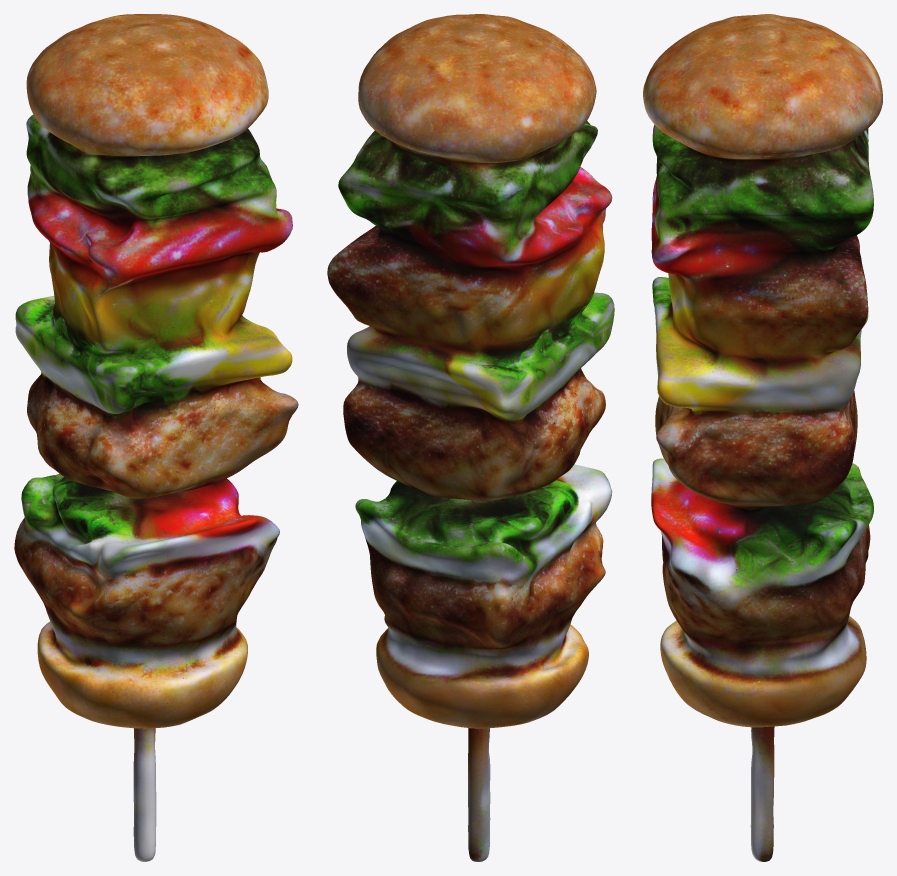
Rendered from Skewer.glb.
3 renders of one model, left to right at view 1: azimuth 30°, elevation 25°; view 2: azimuth 150°, elevation 25°; view 3: azimuth 270°, elevation 25°, orthographic.
Visible parts, largest first — view 1: default_014-material; view 2: default_014-material; view 3: default_014-material.
Boxes of the visible parts, left/top/right/bottom form: default_014-material: left=14, top=14, right=298, bottom=861; default_014-material: left=327, top=14, right=614, bottom=861; default_014-material: left=643, top=14, right=882, bottom=861.
Size of the model in its own units: 0.4975 by 1.89 by 0.498.
1 material, 1 textured.
